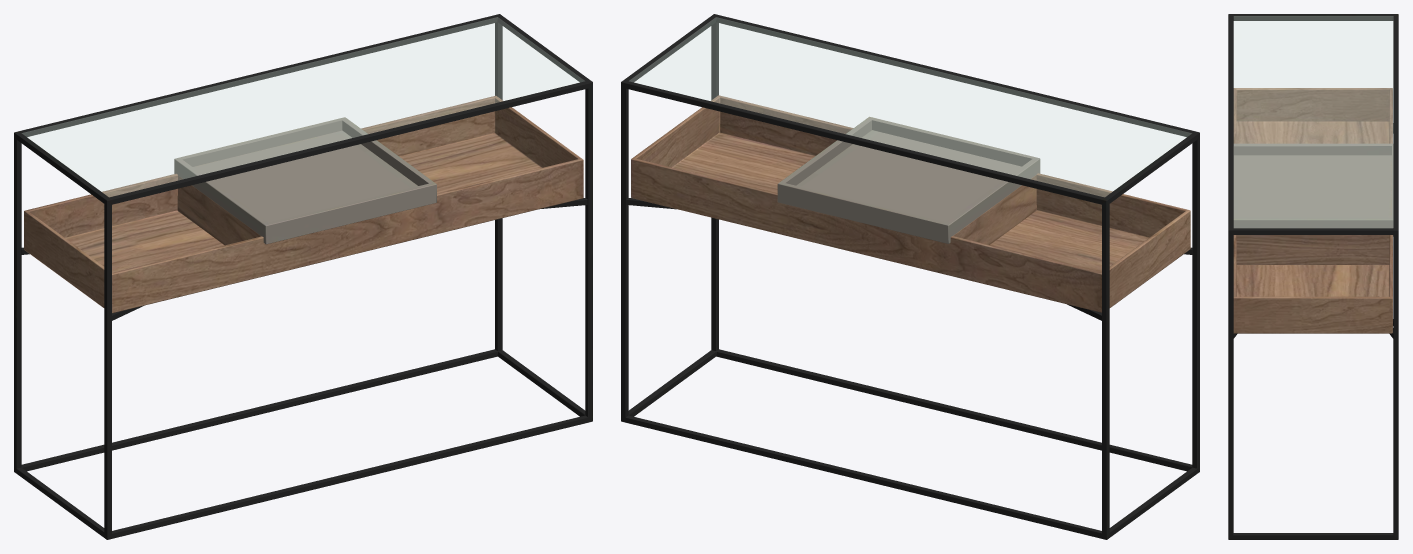
The model's file is B072ZNMKGM.glb.
3 renders of one model, left to right at view 1: azimuth 30°, elevation 25°; view 2: azimuth 150°, elevation 25°; view 3: azimuth 270°, elevation 25°, orthographic. The views are drawn at different scales.
Parts seen in each view (by area): view 1: B072ZNMKGM; view 2: B072ZNMKGM; view 3: B072ZNMKGM.
Part boxes in pixels (left/top/right/bottom): B072ZNMKGM: left=14, top=14, right=592, bottom=539; B072ZNMKGM: left=621, top=14, right=1199, bottom=539; B072ZNMKGM: left=1228, top=14, right=1398, bottom=539.
Bounding box in the file's own units: 1.2 × 0.8 × 0.3988.
Materials: 1 (1 with a texture image).
